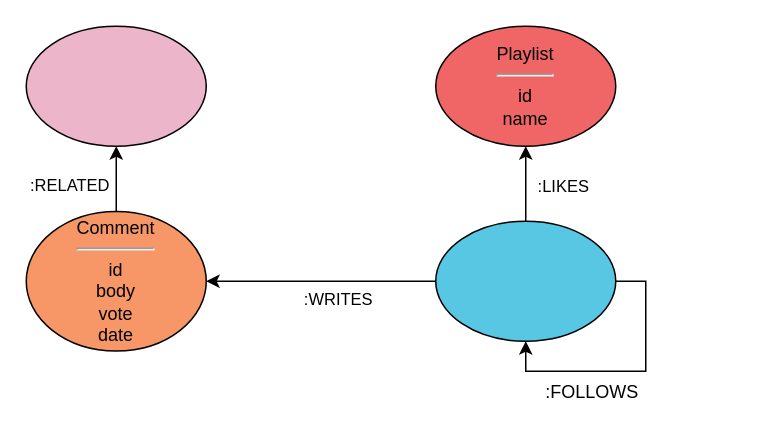
The diagram is 768 pixels wide and 432 high, and some of its shapes have lost their labels. Here are the shapes that lost their labels. From the top down, the centre of each, then its label:
[115,85]: Song id track artist
[525,280]: User id username
